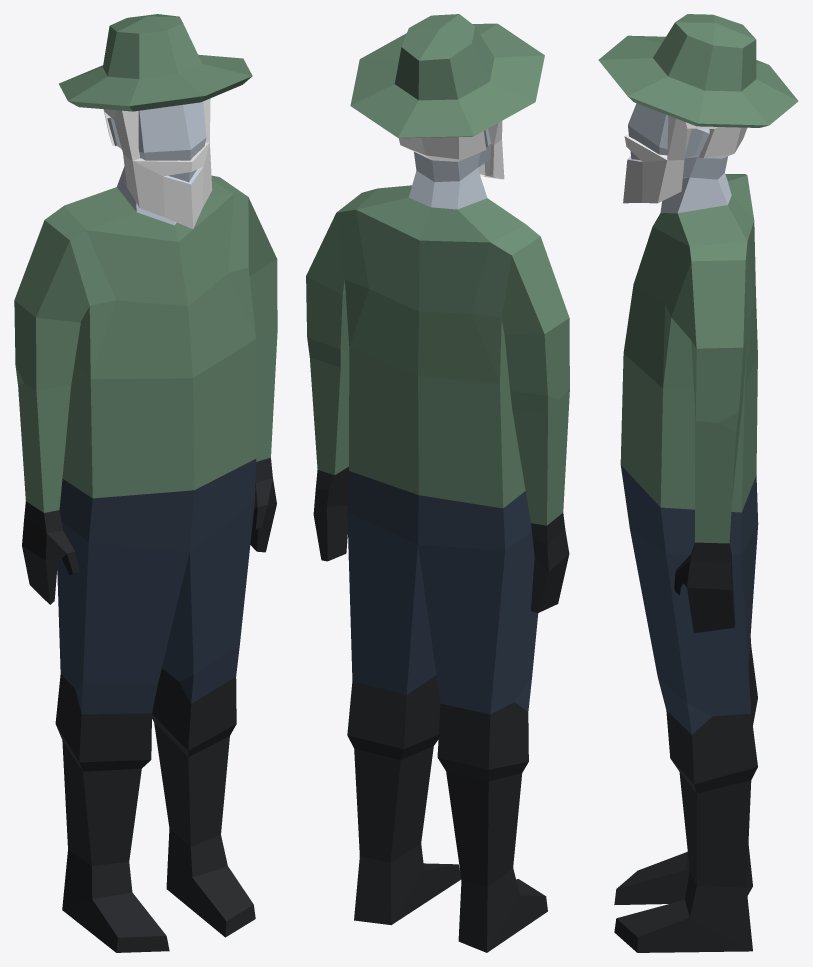
The model's file is oldman.glb.
3 views of the same model, side by side, from view 1: azimuth 30°, elevation 25°; view 2: azimuth 150°, elevation 25°; view 3: azimuth 270°, elevation 25° (orthographic).
Visible parts, largest first — view 1: man-farm; view 2: man-farm; view 3: man-farm.
Boxes of the visible parts, bbox=[...] form: man-farm: bbox=[14, 14, 277, 952]; man-farm: bbox=[306, 14, 569, 952]; man-farm: bbox=[598, 14, 798, 952].
Size of the model in its own units: 0.5348 by 1.88 by 0.3804.
1 material, 1 textured.
